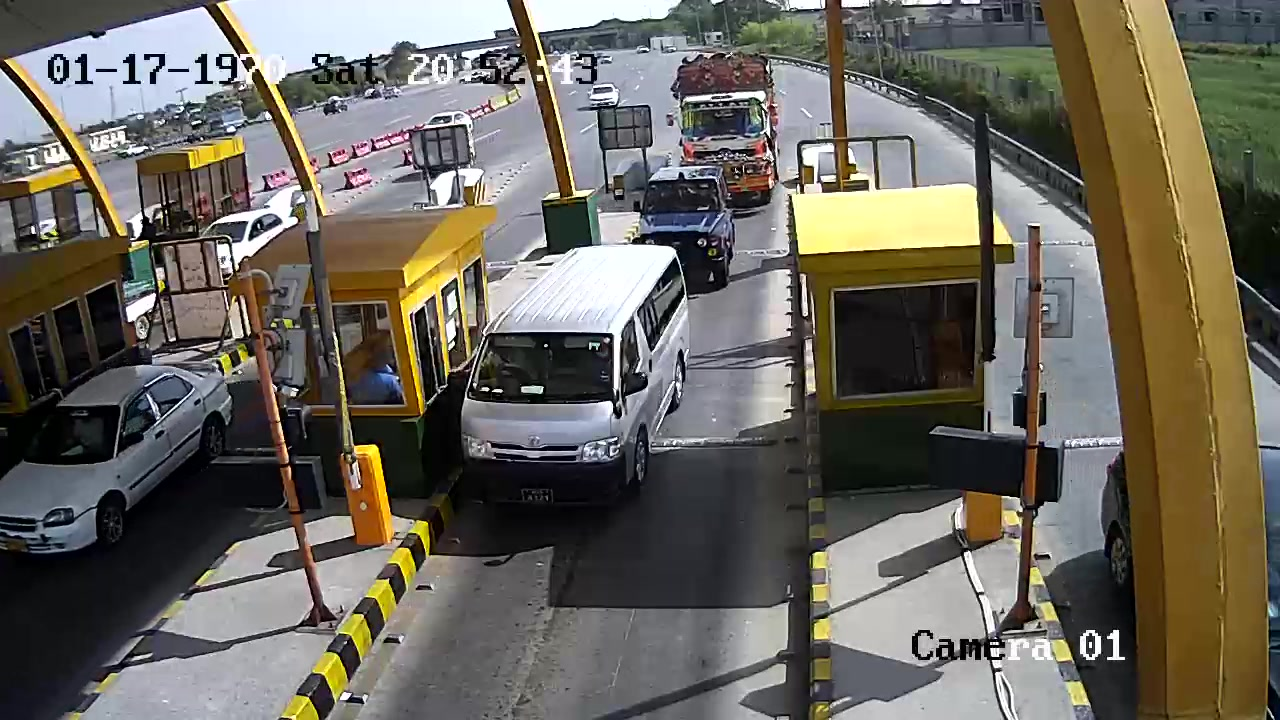F3: (455, 245, 688, 508)
